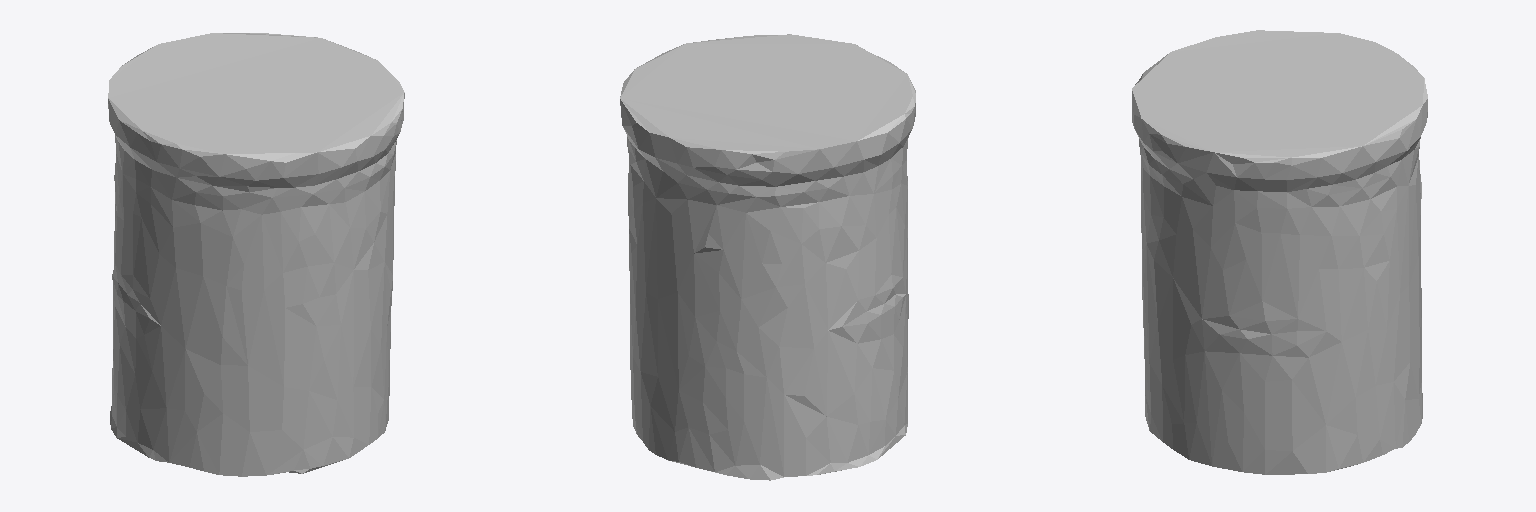
Rendered from OrangeMarmelade_800_tex.obj.
The picture shows the model from 3 angles: view 1: azimuth 30°, elevation 25°; view 2: azimuth 150°, elevation 25°; view 3: azimuth 270°, elevation 25°; orthographic projection.
Bounding box in the file's own units: 0.0781 × 0.0959 × 0.0778.